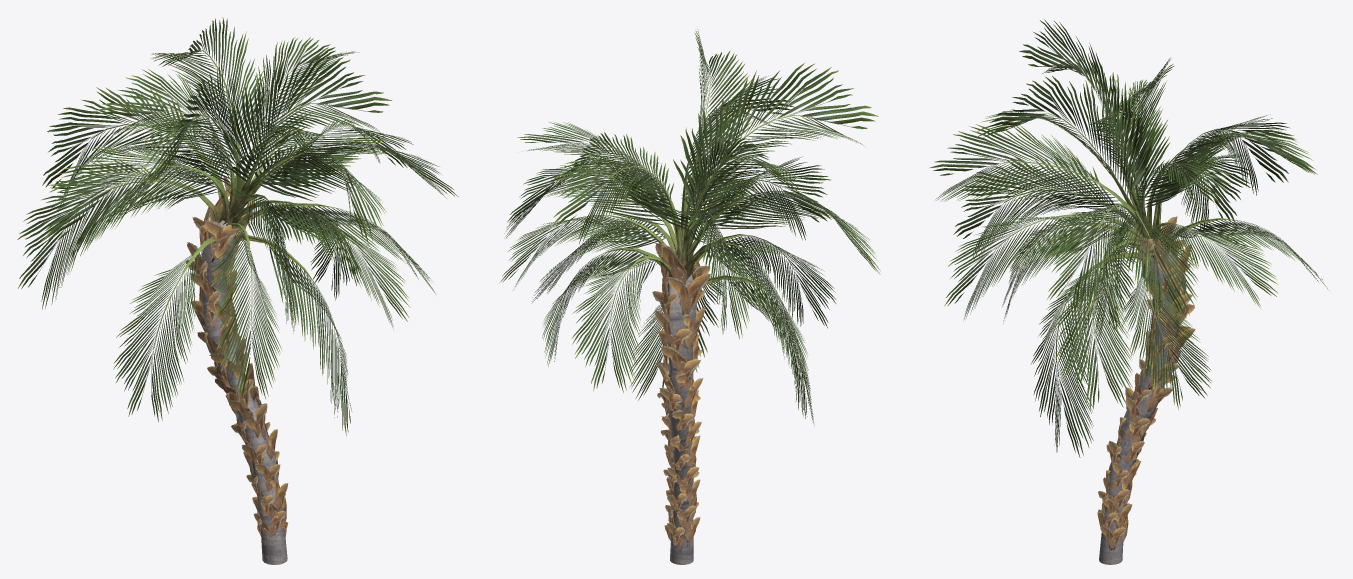
Rendered from curly_palm.fbx.
3 renders of one model, left to right at view 1: azimuth 30°, elevation 25°; view 2: azimuth 150°, elevation 25°; view 3: azimuth 270°, elevation 25°, orthographic. The views are drawn at different scales.
Parts seen in each view (by area): view 1: Tree_1, Tree_2, Tree_3, Tree_0; view 2: Tree_1, Tree_2, Tree_3, Tree_0; view 3: Tree_1, Tree_2, Tree_0, Tree_3.
Part boxes in pixels (left/top/right/bottom): Tree_1: left=17, top=17, right=458, bottom=436; Tree_2: left=186, top=177, right=288, bottom=538; Tree_3: left=136, top=106, right=337, bottom=284; Tree_0: left=201, top=220, right=287, bottom=564; Tree_1: left=499, top=29, right=880, bottom=425; Tree_2: left=652, top=243, right=710, bottom=547; Tree_3: left=608, top=152, right=771, bottom=294; Tree_0: left=667, top=274, right=697, bottom=564; Tree_1: left=929, top=19, right=1329, bottom=457; Tree_2: left=1097, top=216, right=1195, bottom=550; Tree_0: left=1099, top=247, right=1185, bottom=564; Tree_3: left=1062, top=133, right=1235, bottom=297.
Bounding box in the file's own units: 277 × 364 × 278.
